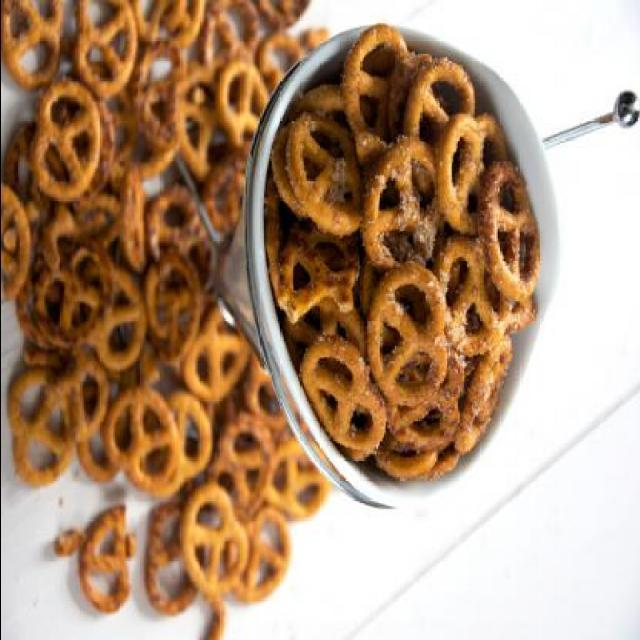Salatini packaged: (279, 27, 541, 478)
